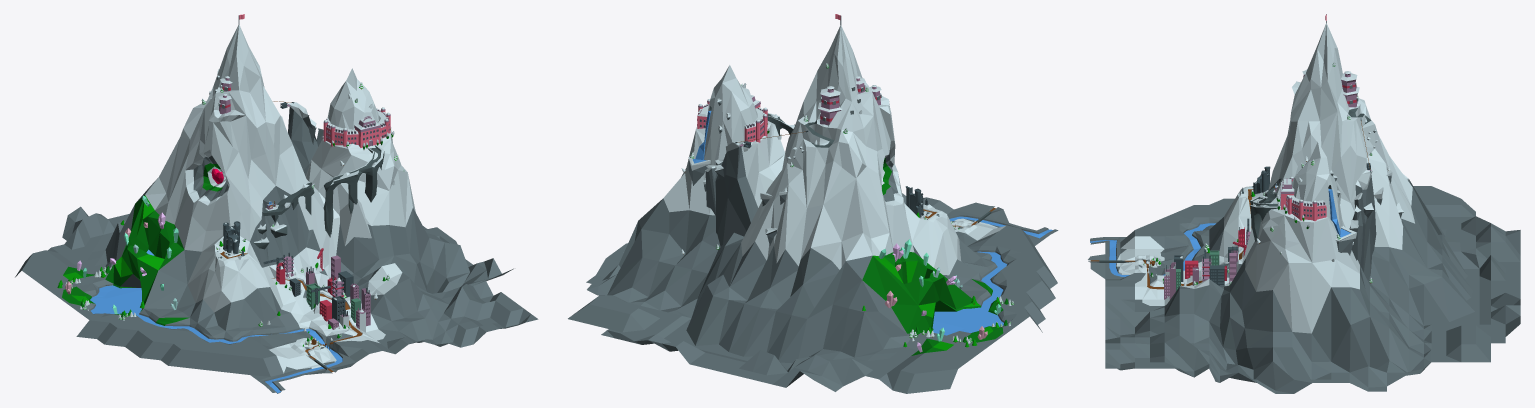
Rendered from Mountain.fbx.
The picture shows the model from 3 angles, left to right: view 1: azimuth 30°, elevation 25°; view 2: azimuth 150°, elevation 25°; view 3: azimuth 270°, elevation 25°; orthographic projection. The views are drawn at different scales.
Visible parts, largest first — view 1: Default.006, Default.002, Default.003, Default, Default.005, level3_resort, level1_buildings_sides, level4_cliffside, Default.004, level1_buildings_fronts, level6_fall, level1_buildings (+2 smaller); view 2: Default.006, Default.002, Default.003, level4_cliffside, Default.005, level6_fall, Default.004, level5_temple, level3_resort, Default, level2_tower; view 3: Default.006, Default.002, level4_cliffside, level3_resort, level1_buildings_fronts, Default, level1_buildings_sides, Default.005, level5_temple, level1_buildings, level1_buildings_windows.
Boxes of the visible parts, x1=… form: Default.006: x1=15, y1=155, x2=538, y2=393; Default.002: x1=65, y1=25, x2=415, y2=373; Default.003: x1=62, y1=88, x2=389, y2=338; Default: x1=254, y1=145, x2=384, y2=369; Default.005: x1=90, y1=249, x2=342, y2=393; level3_resort: x1=323, y1=107, x2=394, y2=149; level1_buildings_sides: x1=279, y1=255, x2=365, y2=332; level4_cliffside: x1=273, y1=101, x2=323, y2=176; Default.004: x1=57, y1=84, x2=397, y2=332; level1_buildings_fronts: x1=276, y1=257, x2=370, y2=329; level6_fall: x1=65, y1=195, x2=178, y2=313; level1_buildings: x1=276, y1=252, x2=370, y2=317; Default.006: x1=568, y1=149, x2=1058, y2=393; Default.002: x1=663, y1=25, x2=1013, y2=343; Default.003: x1=690, y1=64, x2=1010, y2=355; level4_cliffside: x1=688, y1=98, x2=808, y2=246; Default.005: x1=932, y1=216, x2=1052, y2=335; level6_fall: x1=878, y1=239, x2=1001, y2=352; Default.004: x1=862, y1=212, x2=1013, y2=350; level5_temple: x1=818, y1=76, x2=881, y2=125; level3_resort: x1=697, y1=95, x2=769, y2=142; Default: x1=709, y1=106, x2=991, y2=222; level2_tower: x1=905, y1=186, x2=939, y2=219; Default.006: x1=1088, y1=178, x2=1520, y2=393; Default.002: x1=1116, y1=23, x2=1414, y2=333; level4_cliffside: x1=1328, y1=118, x2=1403, y2=280; level3_resort: x1=1276, y1=176, x2=1326, y2=228; level1_buildings_fronts: x1=1164, y1=229, x2=1244, y2=299; Default: x1=1099, y1=108, x2=1371, y2=262; level1_buildings_sides: x1=1164, y1=247, x2=1238, y2=299; Default.005: x1=1090, y1=223, x2=1215, y2=277; level5_temple: x1=1302, y1=69, x2=1359, y2=107; level1_buildings: x1=1164, y1=227, x2=1250, y2=281; level1_buildings_windows: x1=1165, y1=234, x2=1243, y2=297.
Bounding box in the file's own units: 1910 × 1313 × 1826.
